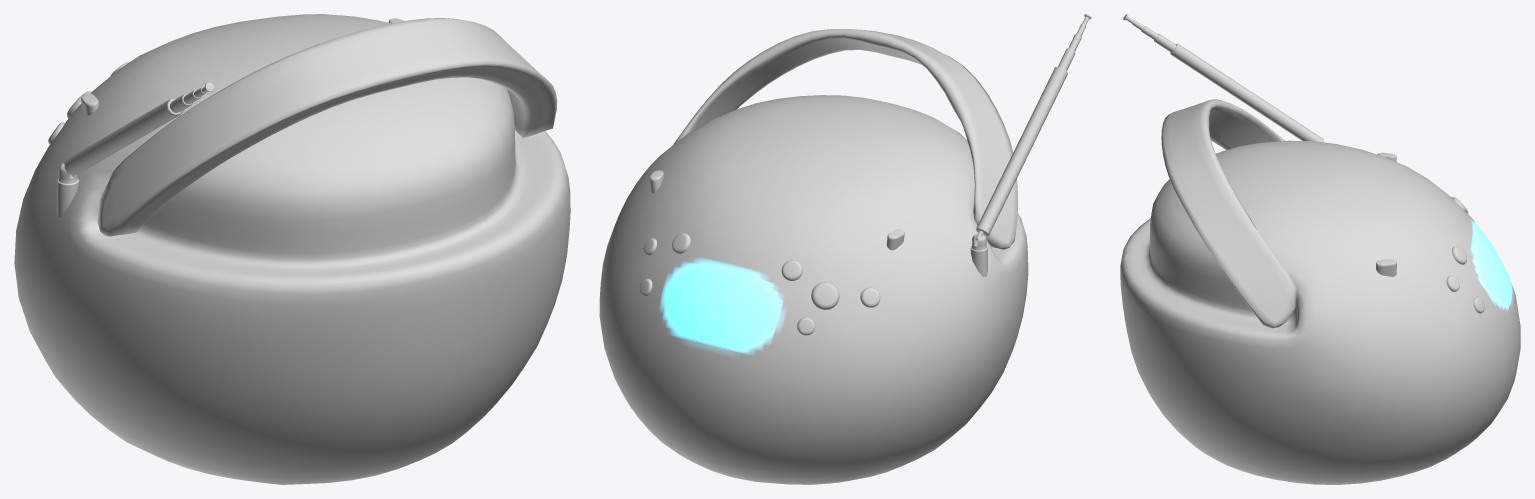
File: BoomBox-NoTexture.gltf
3 views of the same model, side by side, from view 1: azimuth 30°, elevation 25°; view 2: azimuth 150°, elevation 25°; view 3: azimuth 270°, elevation 25° (orthographic). The views are drawn at different scales.
Parts seen in each view (by area): view 1: BoomBox; view 2: BoomBox; view 3: BoomBox.
Part boxes in pixels (x1,y1,x2,y2): BoomBox: (14,14,570,484); BoomBox: (599,14,1091,484); BoomBox: (1120,14,1520,484).
Size of the model in its own units: 0.0198 by 0.0195 by 0.0202.
